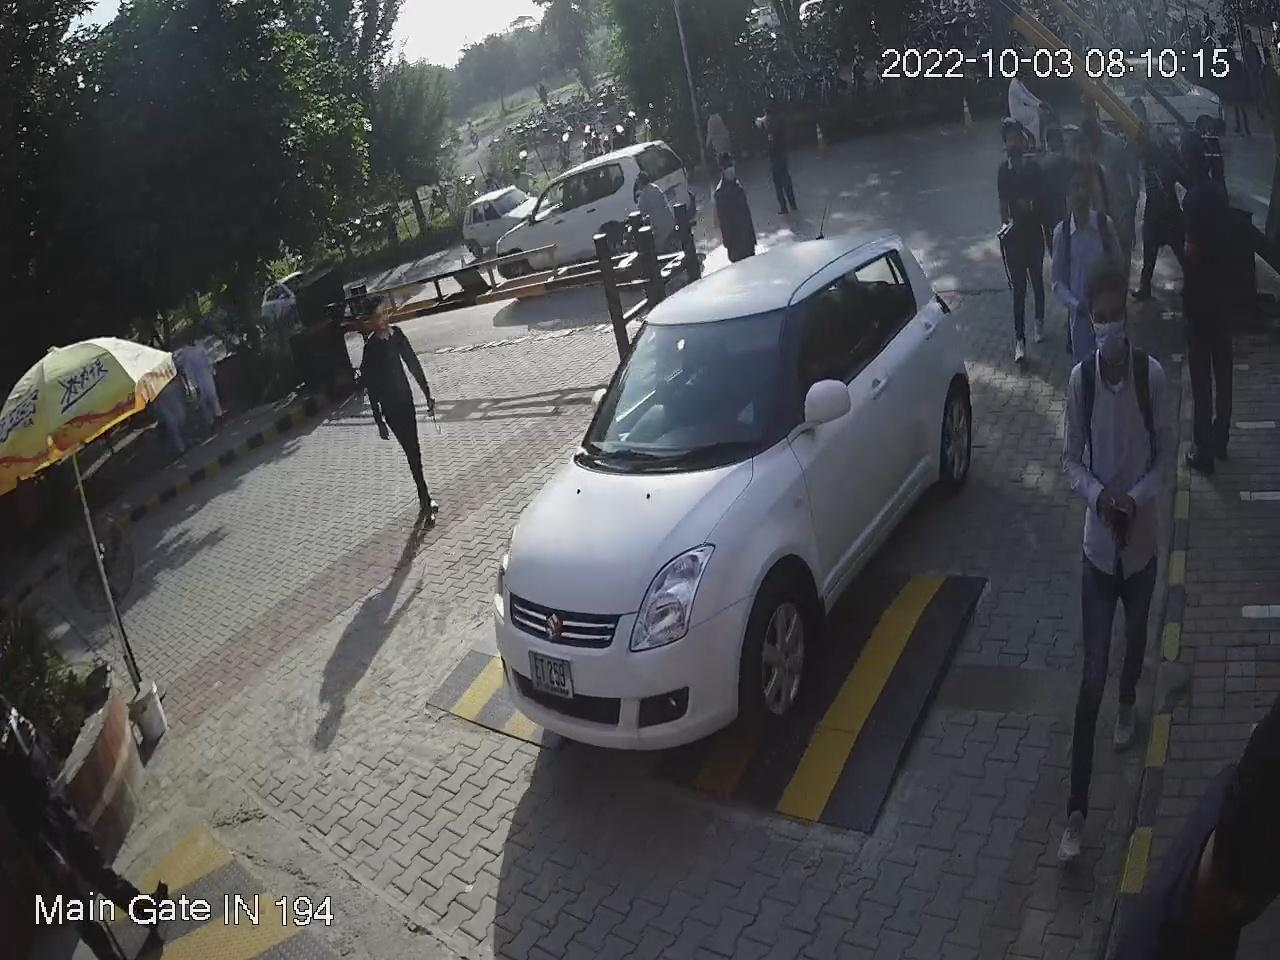windshield: (578, 292, 796, 465)
